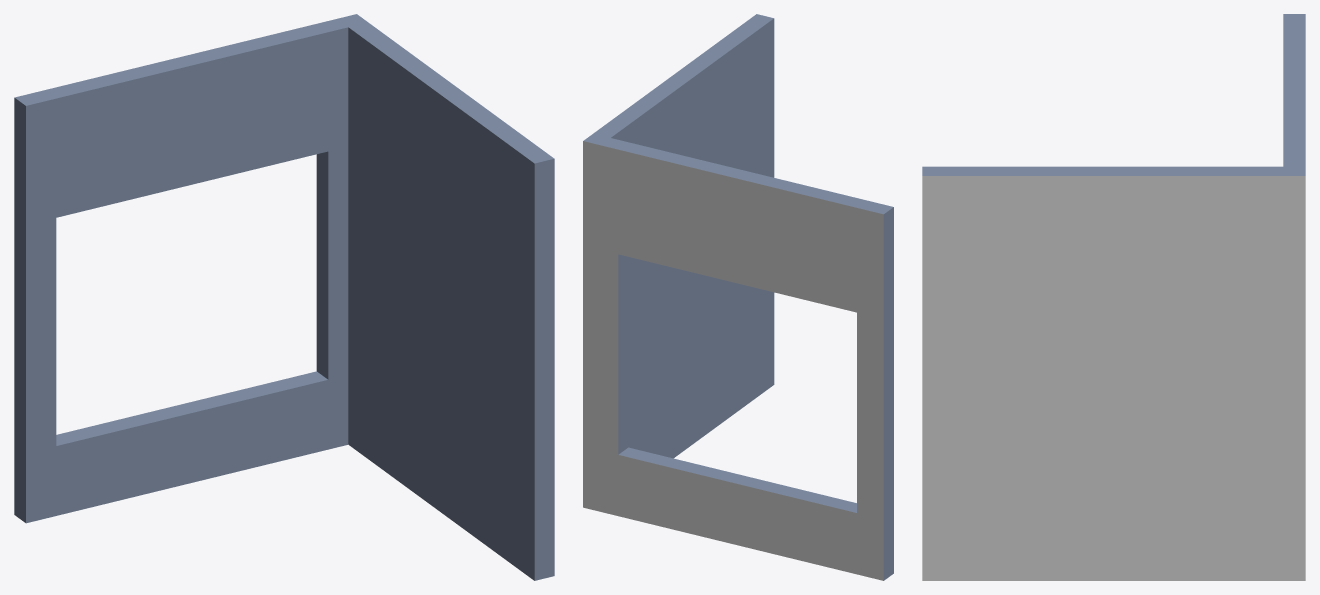
File: Wall1_C3_13.fbx
The picture shows the model from 3 angles, left to right: view 1: azimuth 30°, elevation 25°; view 2: azimuth 150°, elevation 25°; view 3: azimuth 270°, elevation 25°; orthographic projection. The views are drawn at different scales.
Visible parts, largest first — view 1: Wall1_C3_13; view 2: Wall1_C3_13; view 3: Wall1_C3_13.
Part boxes in pixels (x1,y1,x2,y2): Wall1_C3_13: (14,14,554,580); Wall1_C3_13: (583,14,893,580); Wall1_C3_13: (922,14,1305,580).
Bounding box in the file's own units: 258 × 300 × 258.
